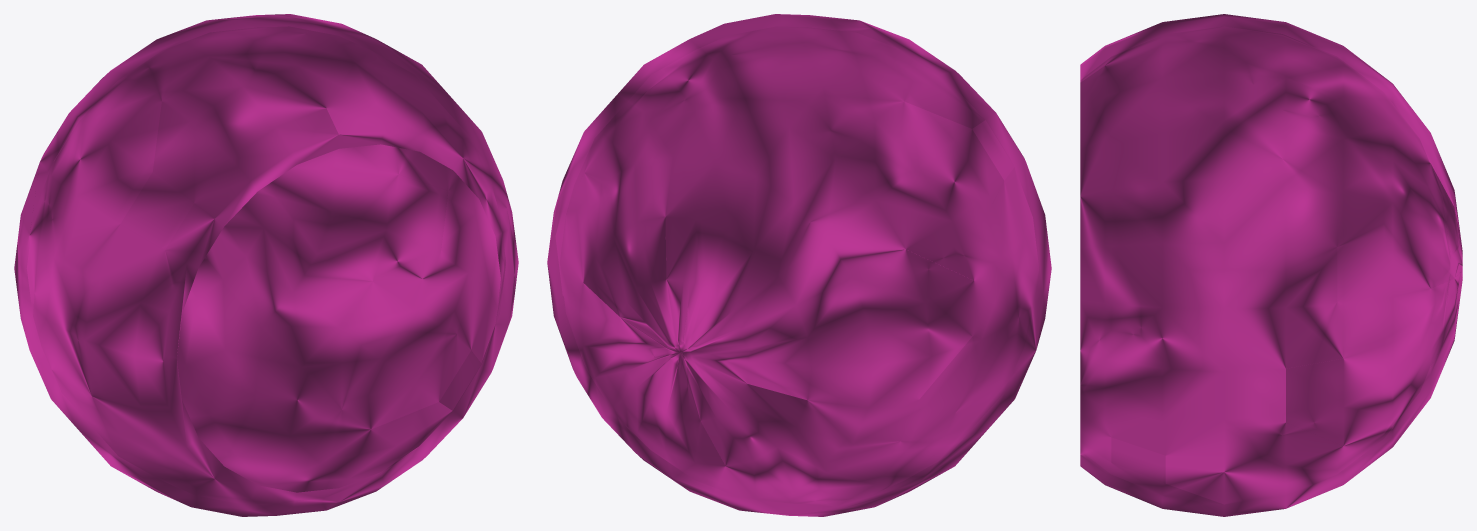
Rendered from model_align.obj.
3 renders of one model, left to right at view 1: azimuth 30°, elevation 25°; view 2: azimuth 150°, elevation 25°; view 3: azimuth 270°, elevation 25°, orthographic.
Bounding box in the file's own units: 0.1404 × 0.1404 × 0.1063.
